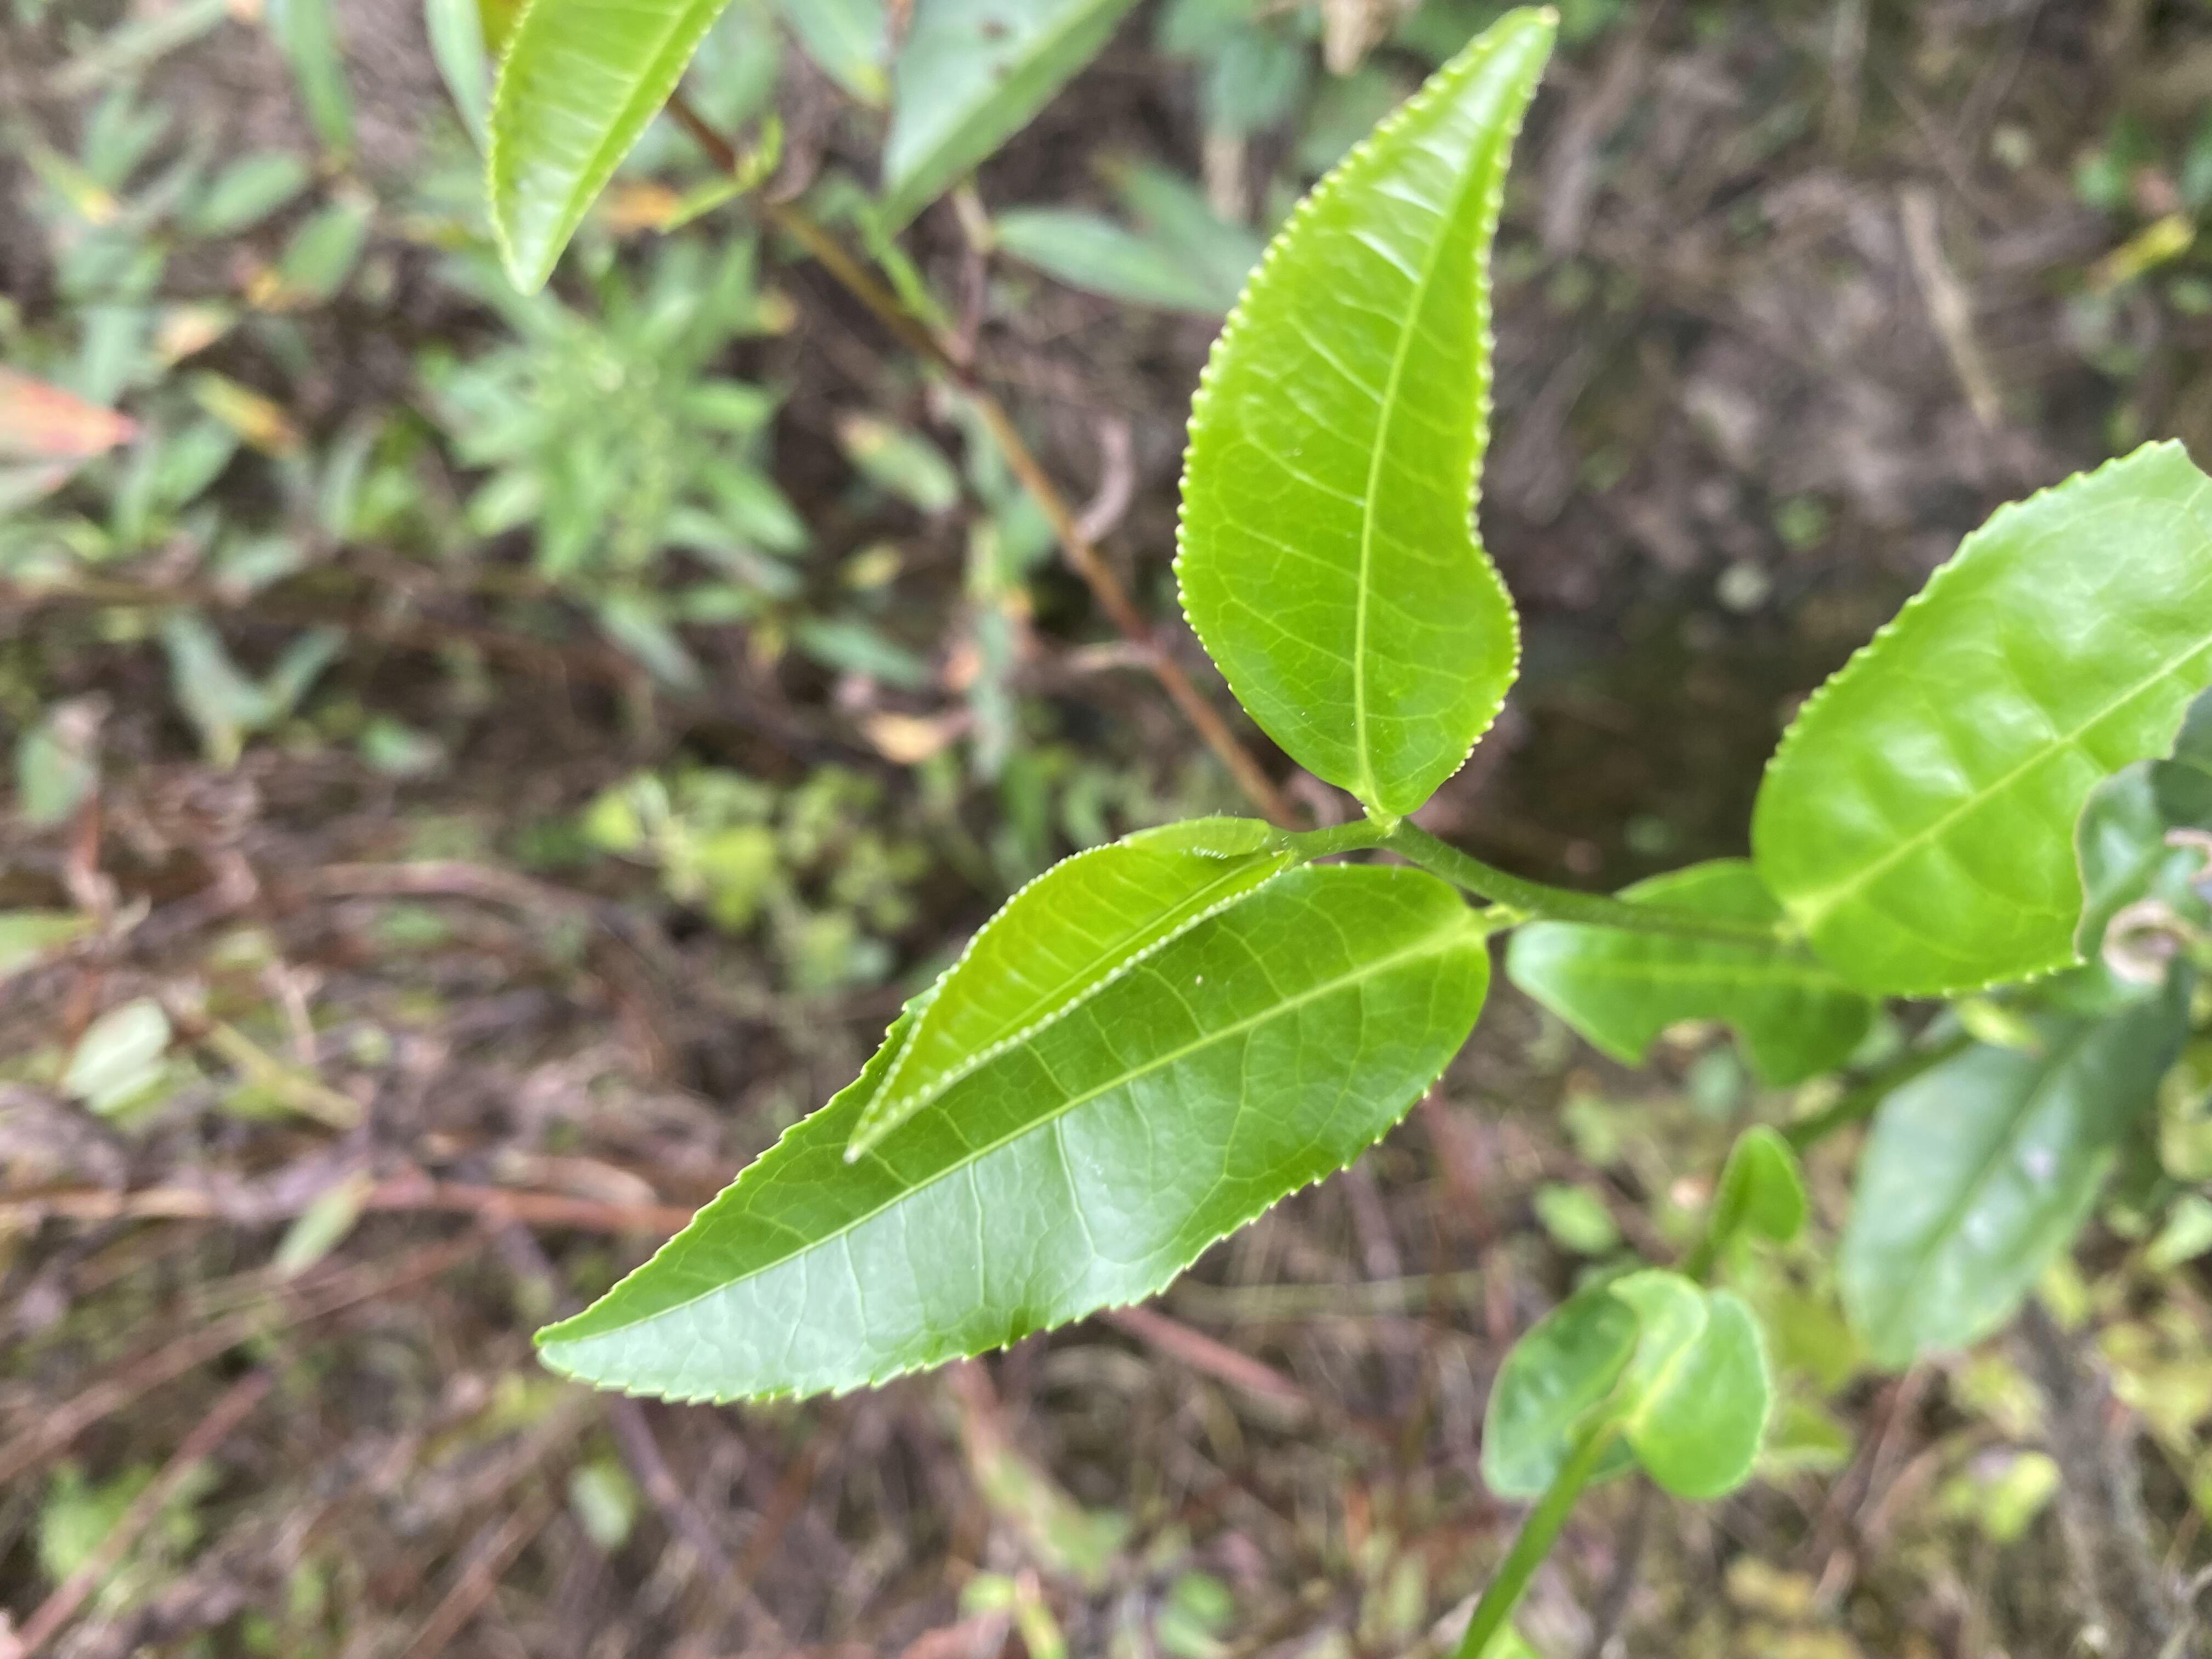chihuo_high: (1747, 436, 2210, 1002)
healthy: (531, 866, 1489, 1406), (1167, 7, 1564, 821), (841, 833, 1298, 1168)
